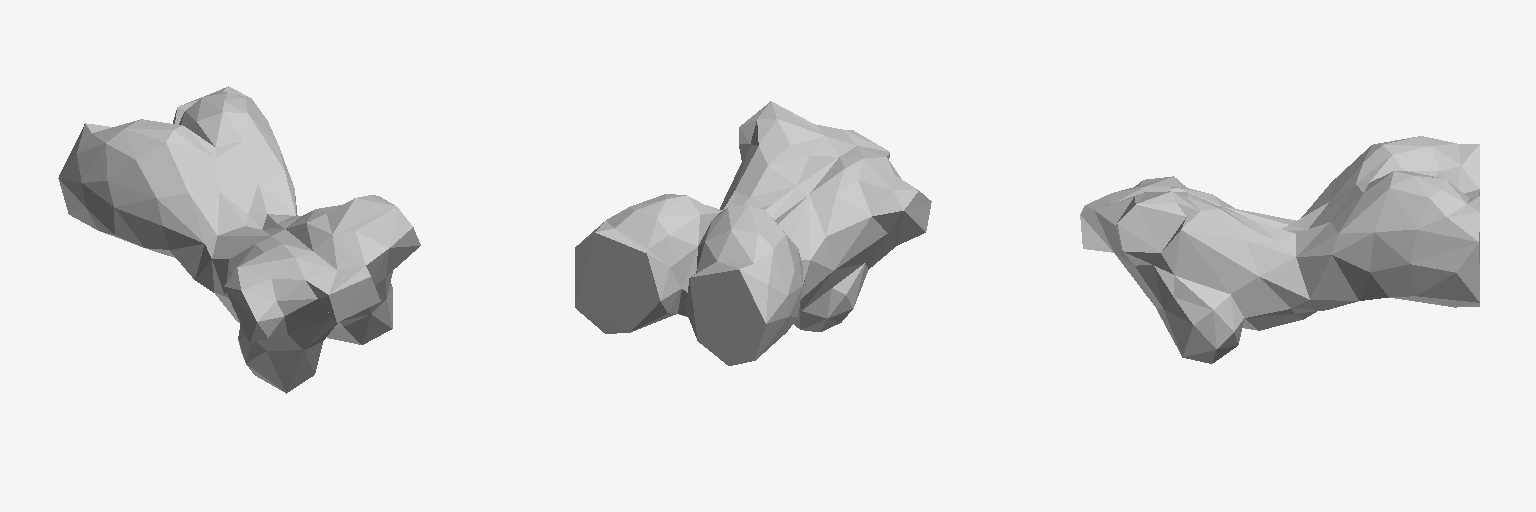
File: torseFemme400.obj
3 views of the same model, side by side, from view 1: azimuth 30°, elevation 25°; view 2: azimuth 150°, elevation 25°; view 3: azimuth 270°, elevation 25° (orthographic).
Visible parts, largest first — view 1: STL object; view 2: STL object; view 3: STL object.
Part boxes in pixels (left/top/right/bottom): STL object: left=58, top=86, right=420, bottom=393; STL object: left=575, top=101, right=931, bottom=365; STL object: left=1080, top=136, right=1479, bottom=363.
Bounding box in the file's own units: 82.04 × 77.79 × 145.